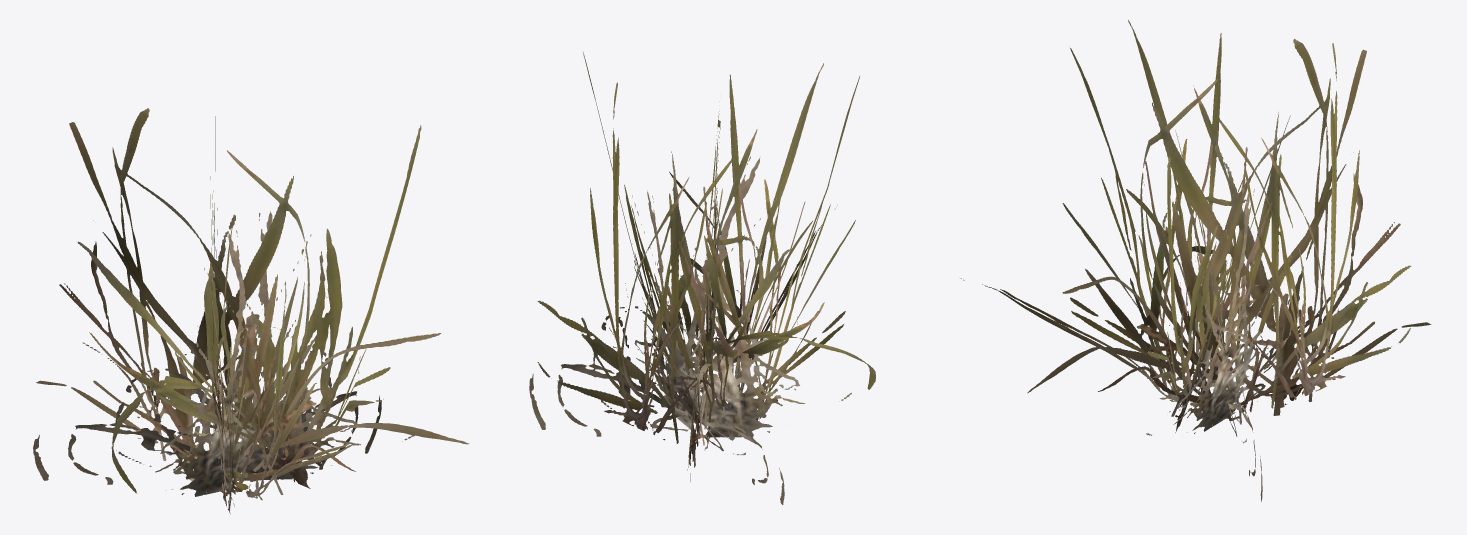
File: MOD_PlantScrub_B.fbx
3 views of the same model, side by side, from view 1: azimuth 30°, elevation 25°; view 2: azimuth 150°, elevation 25°; view 3: azimuth 270°, elevation 25° (orthographic). The views are drawn at different scales.
Visible parts, largest first — view 1: MOD_PlantScrub_B; view 2: MOD_PlantScrub_B; view 3: MOD_PlantScrub_B.
Part boxes in pixels (x1,y1,x2,y2): MOD_PlantScrub_B: [33, 108, 469, 513]; MOD_PlantScrub_B: [529, 52, 875, 504]; MOD_PlantScrub_B: [960, 20, 1431, 501].
Size of the model in its own units: 37.91 by 46.6 by 50.33.
1 material, 1 textured.
